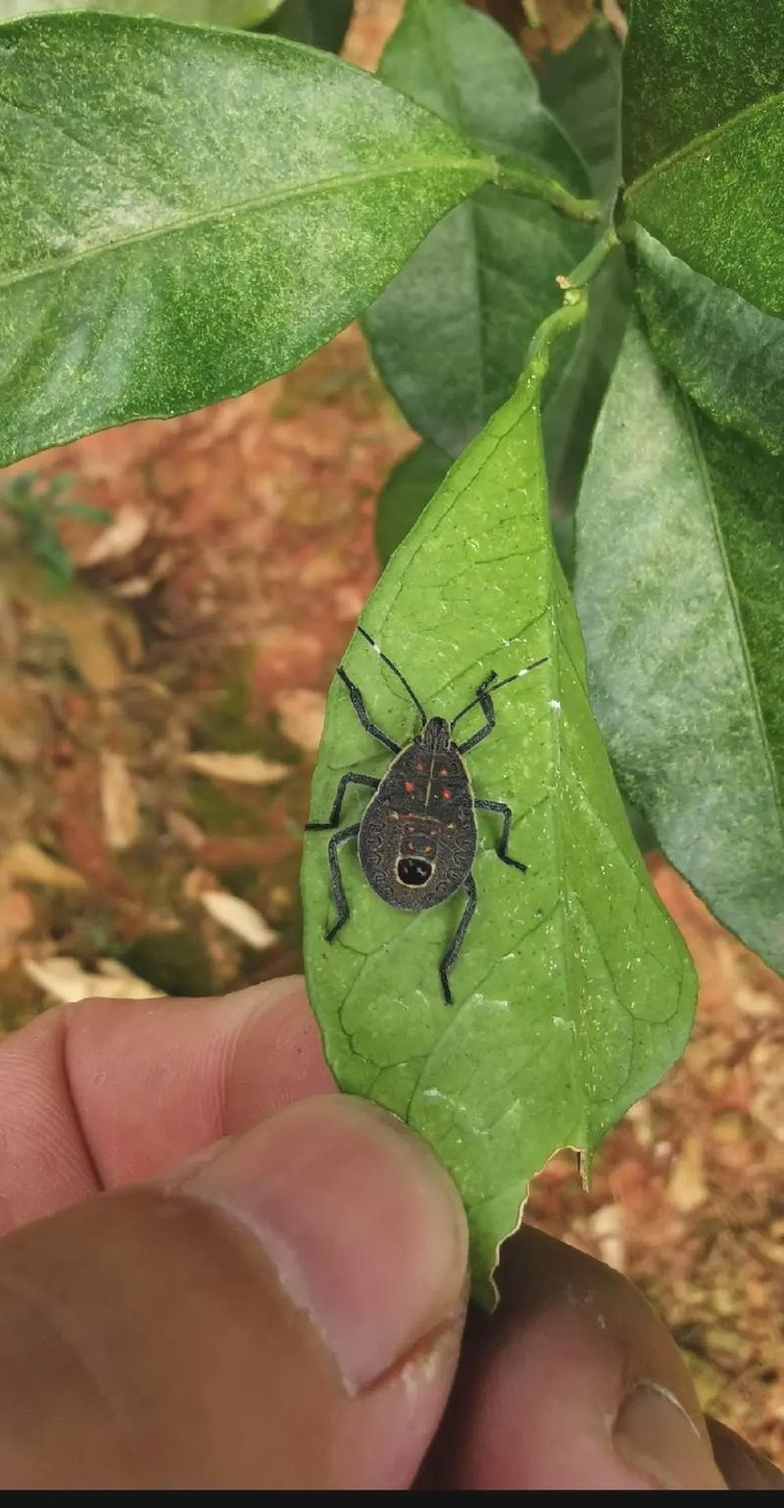Stink_Bug: (333, 621, 540, 895)
